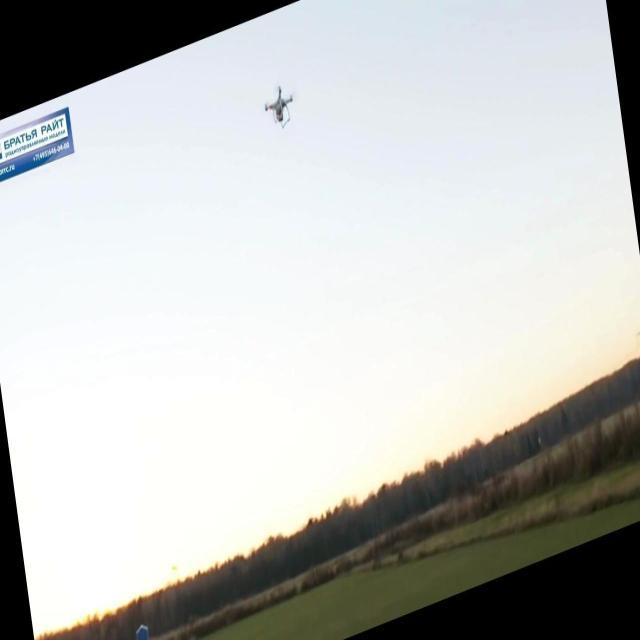drone: (262, 75, 297, 135)
